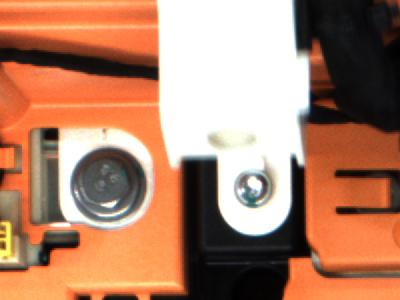nut_b: (68, 149, 151, 229)
